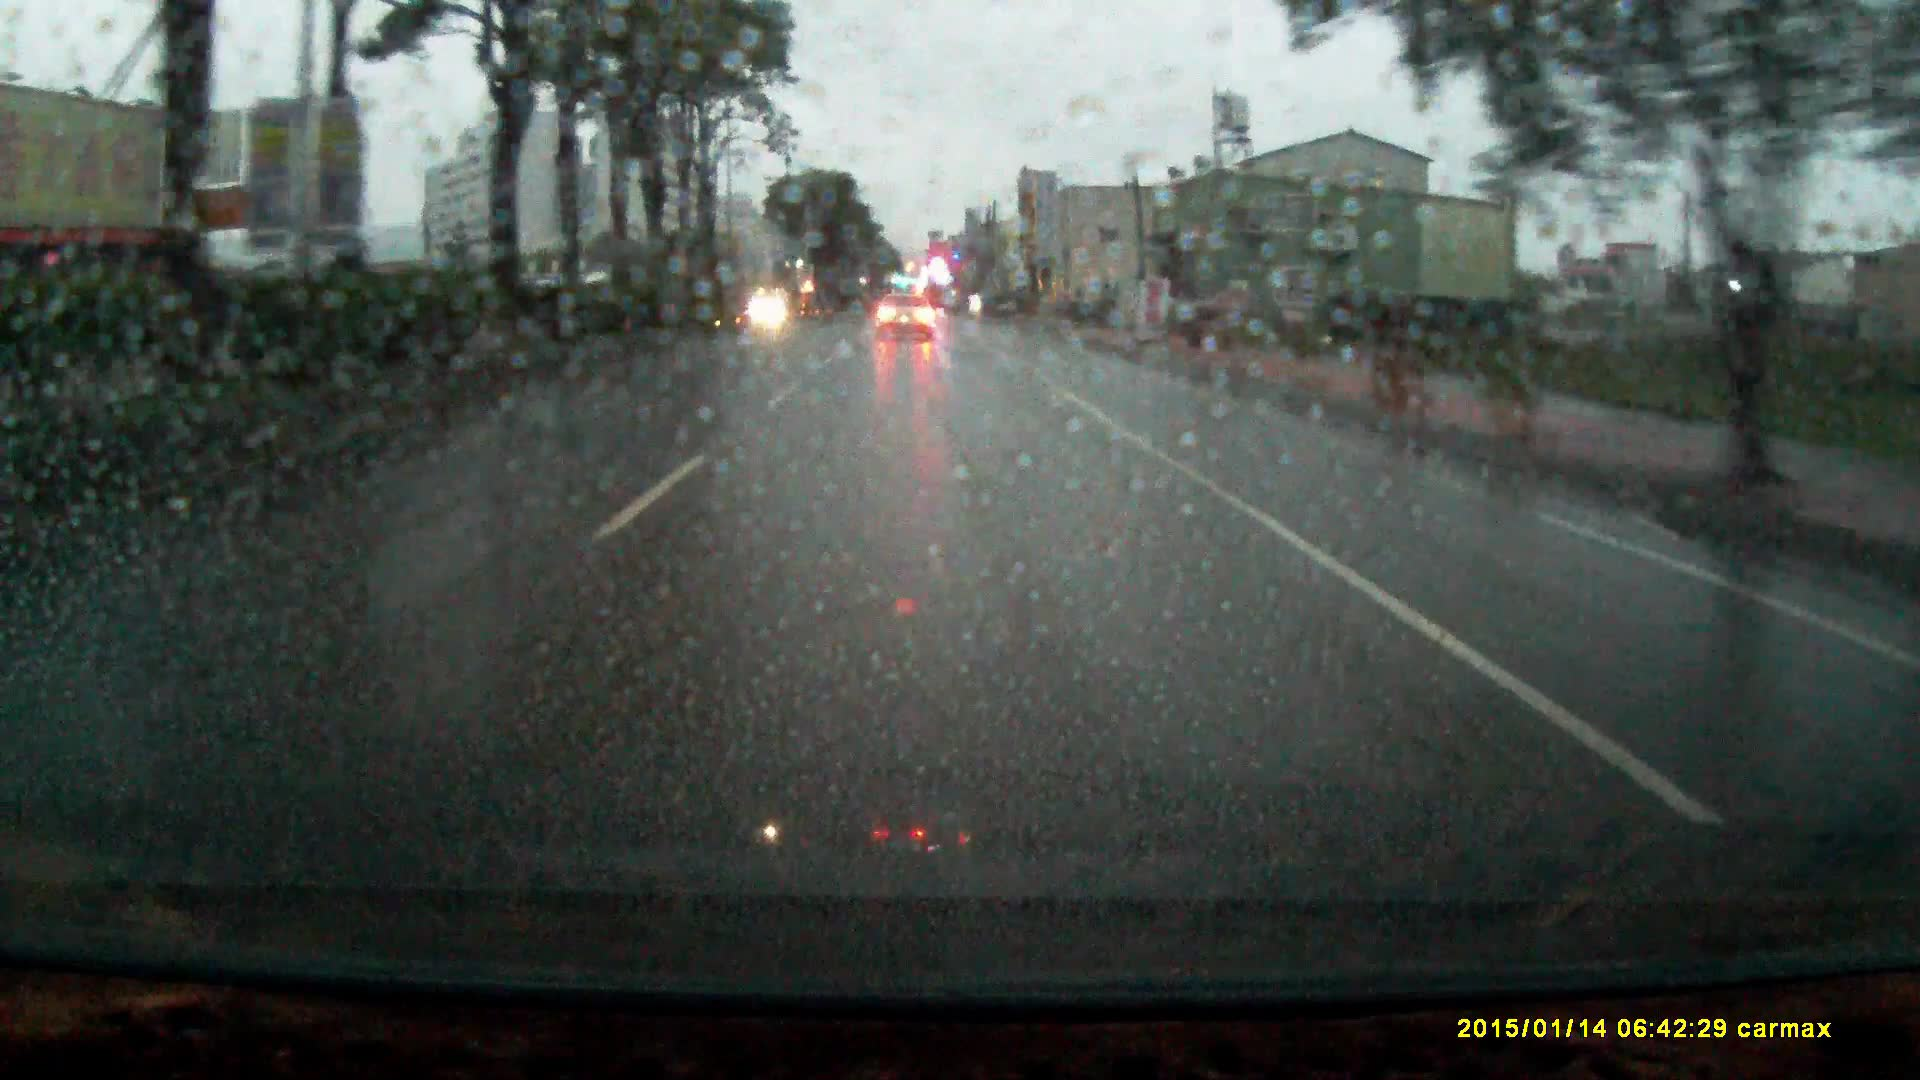vehicle: (876, 294, 936, 345)
